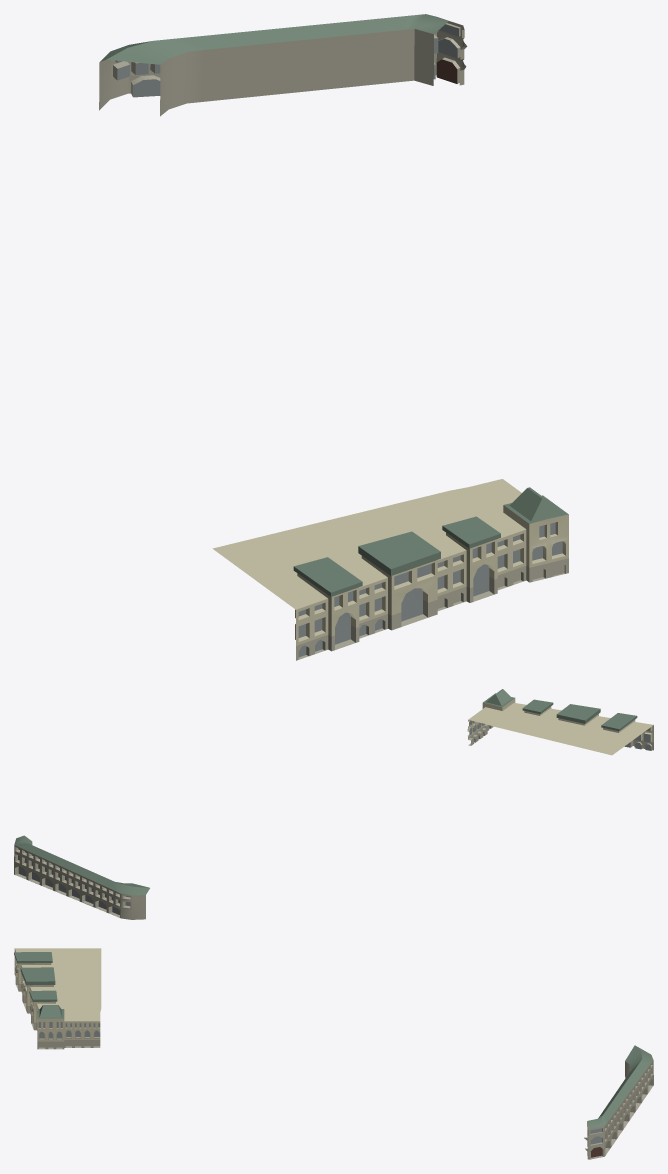
File: Buildings.fbx
3 views of the same model, one above another, from view 1: azimuth 30°, elevation 25°; view 2: azimuth 150°, elevation 25°; view 3: azimuth 270°, elevation 25° (orthographic). The views are drawn at different scales.
Visible parts, largest first — view 1: pCube173, pCube99; view 2: pCube173, pCube99; view 3: pCube173, pCube99.
Part boxes in pixels (left/top/right/bottom): pCube173: left=212, top=479, right=568, bottom=660; pCube99: left=99, top=14, right=467, bottom=116; pCube173: left=467, top=689, right=653, bottom=755; pCube99: left=14, top=835, right=149, bottom=919; pCube173: left=14, top=948, right=101, bottom=1049; pCube99: left=584, top=1045, right=653, bottom=1159.
Bounding box in the file's own units: 1303 × 139 × 1932.
